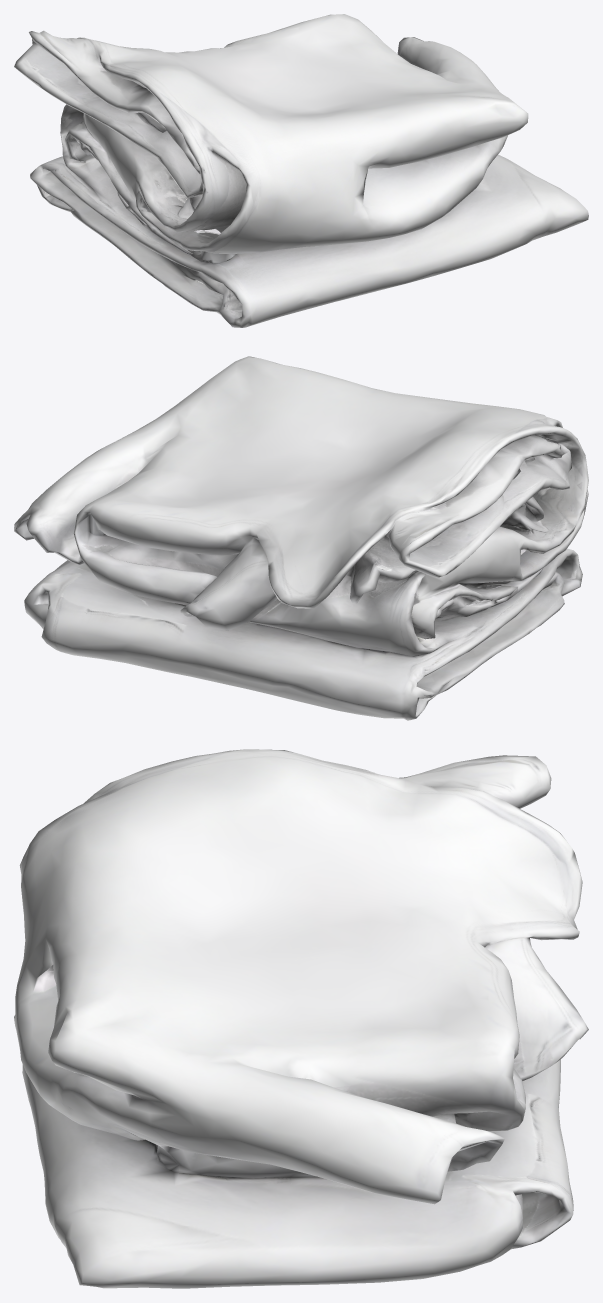
File: folded_white_t_shirt_0730181423_texture.fbx
The picture shows the model from 3 angles, top to bottom: view 1: azimuth 30°, elevation 25°; view 2: azimuth 150°, elevation 25°; view 3: azimuth 270°, elevation 25°; orthographic projection. The views are drawn at different scales.
Visible parts, largest first — view 1: input; view 2: input; view 3: input.
Boxes of the visible parts, x1,y1,x2,y2 form: input: [14, 14, 588, 327]; input: [14, 356, 588, 720]; input: [14, 749, 588, 1288].
Bounding box in the file's own units: 199 × 89.98 × 163.
Materials: 1 (1 with a texture image).
